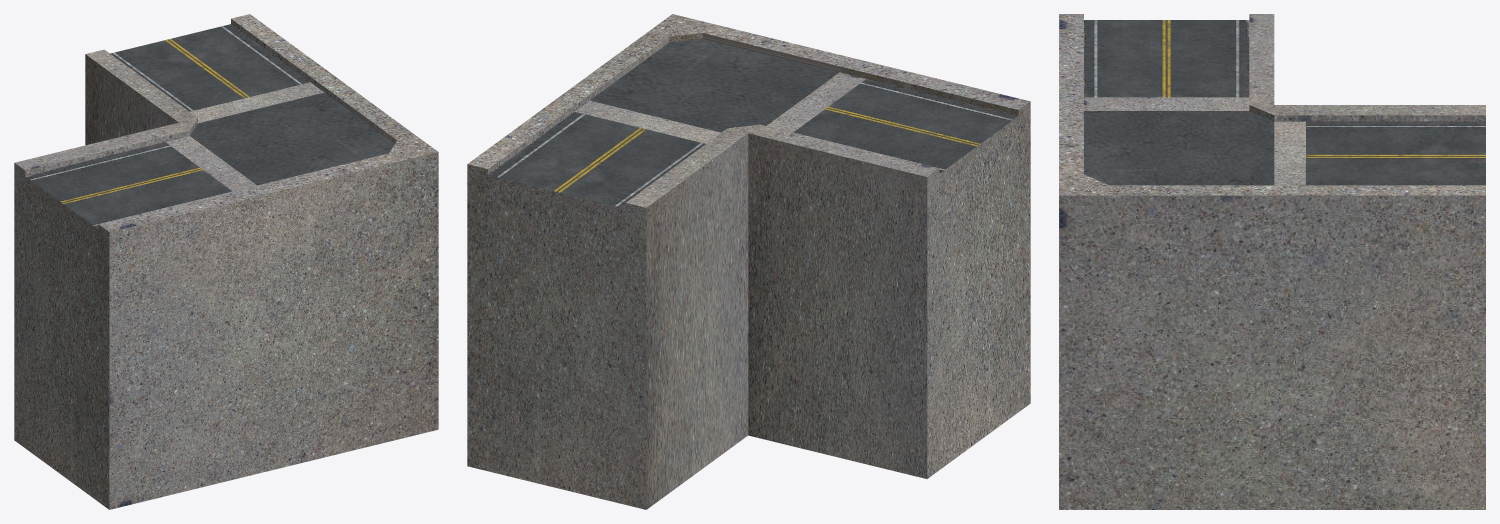
The model's file is leftTurn-90Degree.fbx.
3 renders of one model, left to right at view 1: azimuth 30°, elevation 25°; view 2: azimuth 150°, elevation 25°; view 3: azimuth 270°, elevation 25°, orthographic. The views are drawn at different scales.
Visible parts, largest first — view 1: Plane.022; view 2: Plane.022; view 3: Plane.022.
Part boxes in pixels (x1,y1,x2,y2): Plane.022: [14, 14, 438, 509]; Plane.022: [467, 14, 1030, 509]; Plane.022: [1059, 14, 1485, 509].
Bounding box in the file's own units: 2600 × 2096 × 2580.
